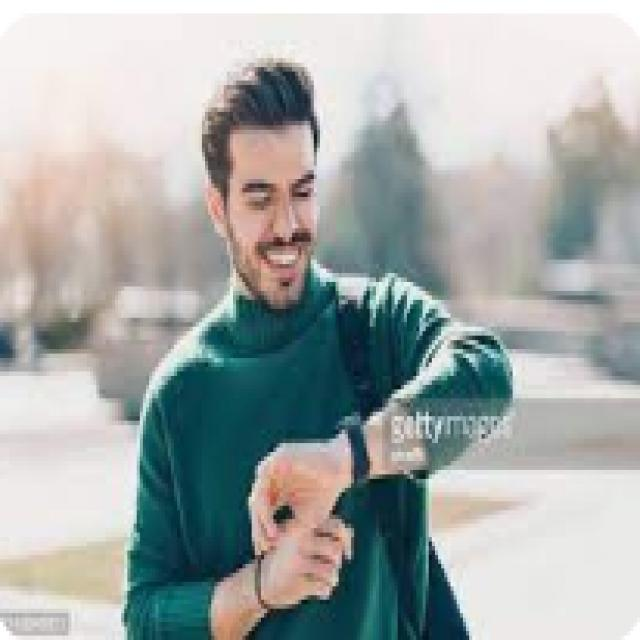Watch: (333, 408, 372, 488)
